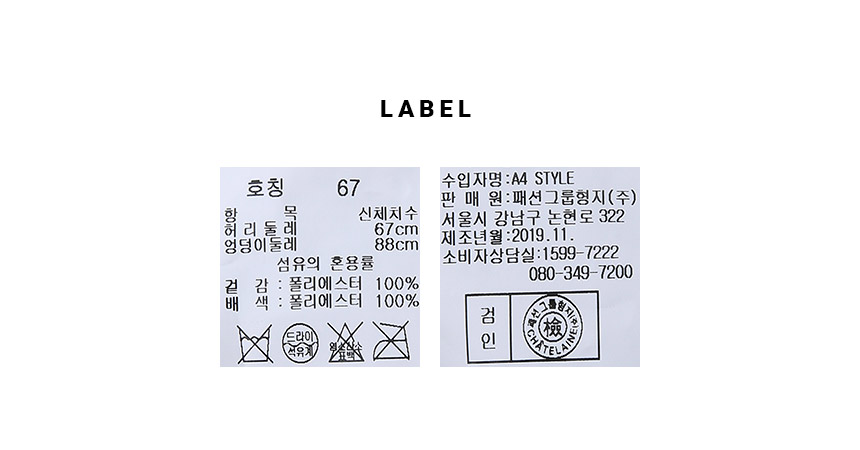KR_dry_clean_petroleum: (279, 321, 323, 366)
KR_no_bleach: (326, 323, 369, 366)
KR_no_iron: (371, 319, 413, 365)
KR_no_wash: (234, 320, 275, 366)
